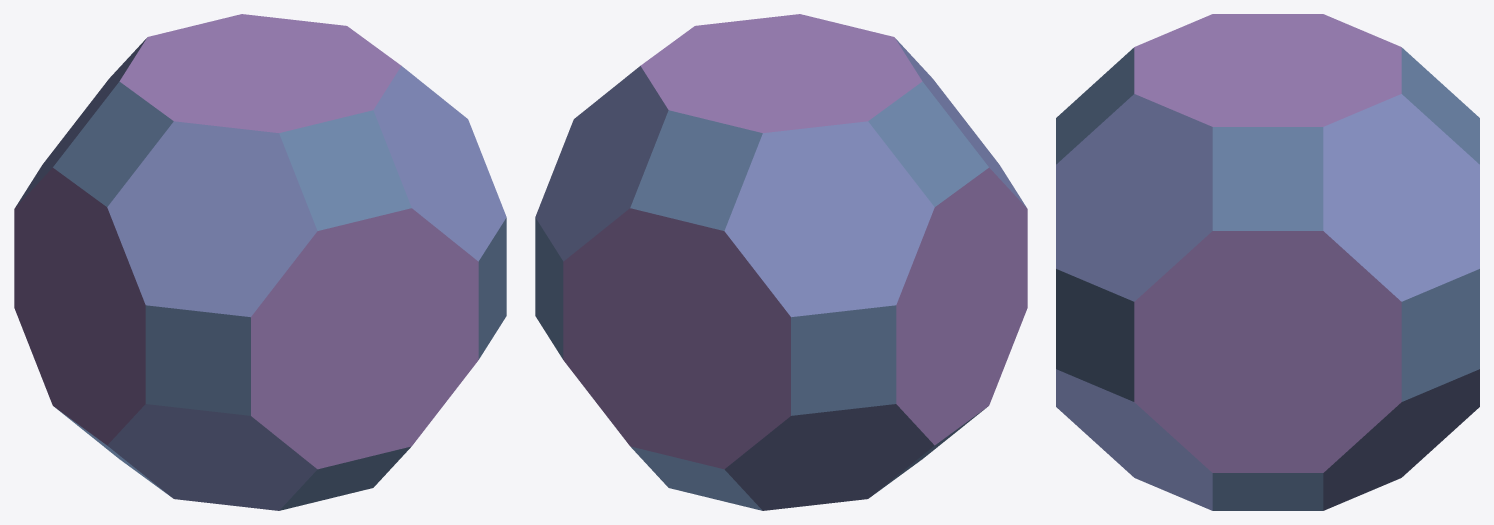
The model's file is 12.CuboctaedroTruncado.gltf.
The picture shows the model from 3 angles, left to right: view 1: azimuth 30°, elevation 25°; view 2: azimuth 150°, elevation 25°; view 3: azimuth 270°, elevation 25°; orthographic projection.
Visible parts, largest first — view 1: Solid.003; view 2: Solid.003; view 3: Solid.003.
Boxes of the visible parts, left/top/right/bottom form: Solid.003: left=14, top=14, right=506, bottom=510; Solid.003: left=535, top=14, right=1027, bottom=510; Solid.003: left=1056, top=14, right=1479, bottom=510.
Bounding box in the file's own units: 1.15 × 1.15 × 1.15.
